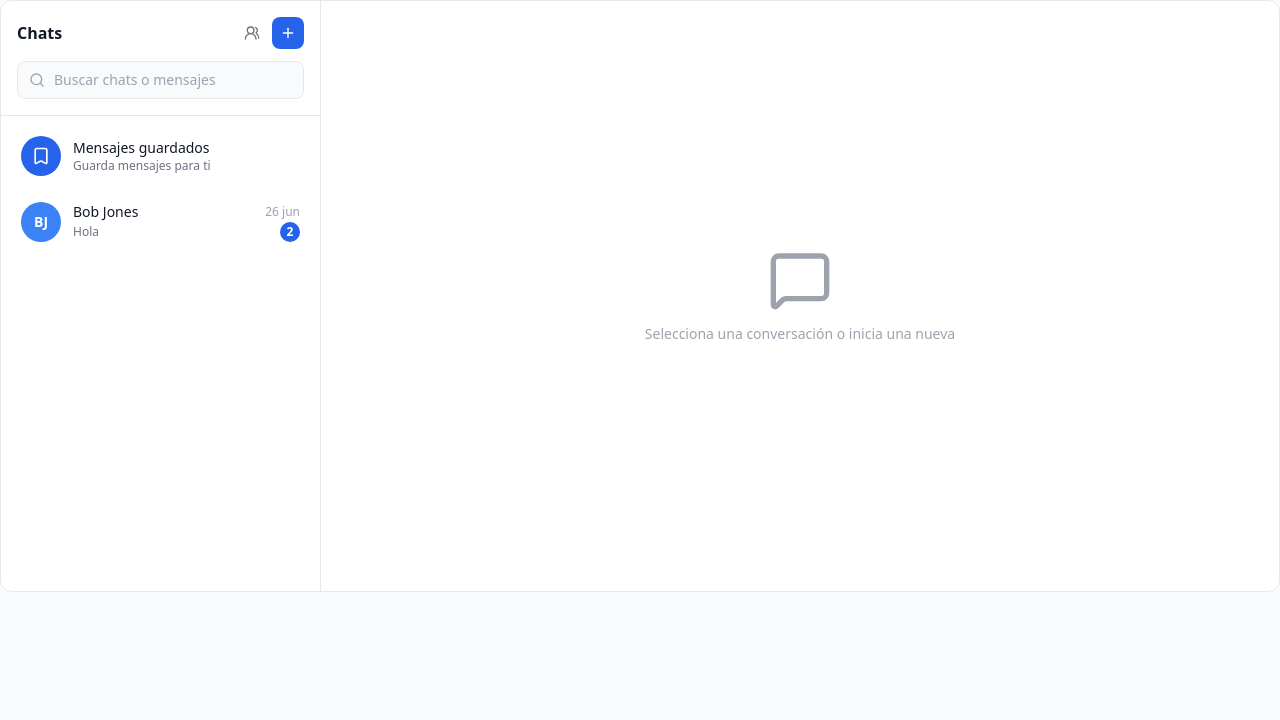
Test: ChatPage › opens the new chat modal
What coordinates should you click on to do the following:
click the button named "Nuevo chat"
I would click on:
 (288, 33)
Its box is [272, 17, 304, 49].
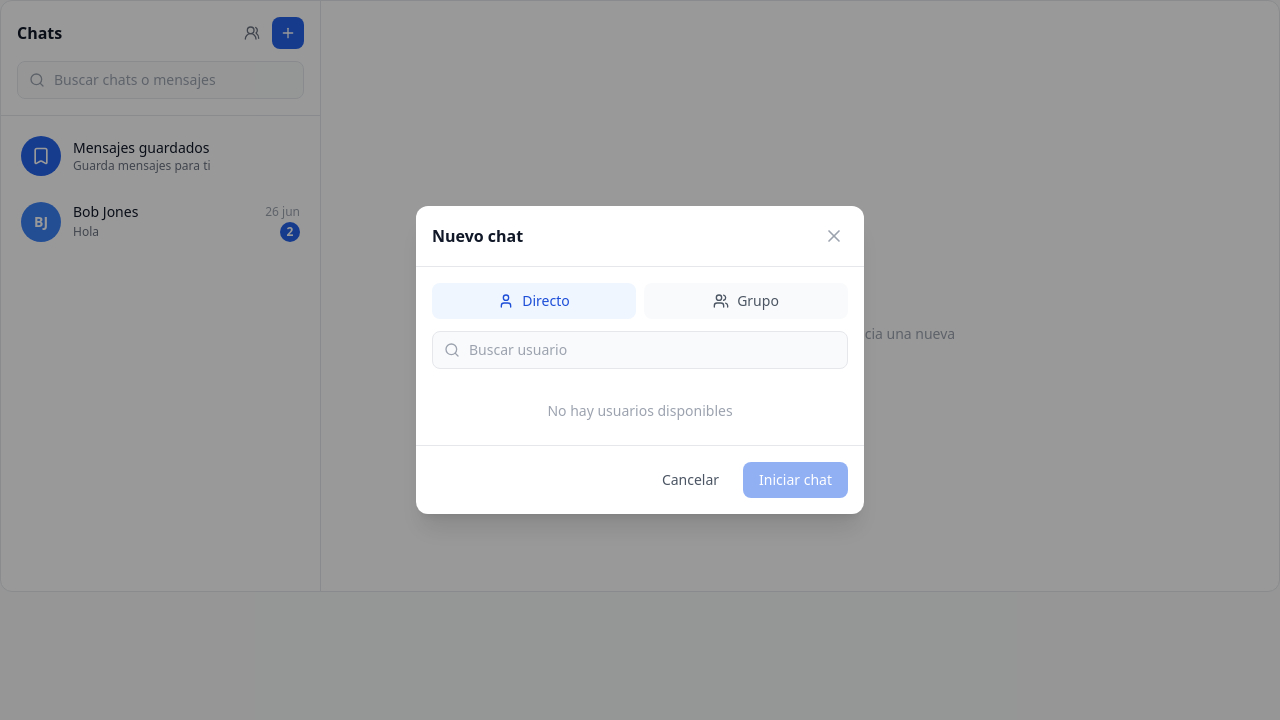
Now the heading "Nuevo chat" is shown, box [432, 224, 523, 248]
